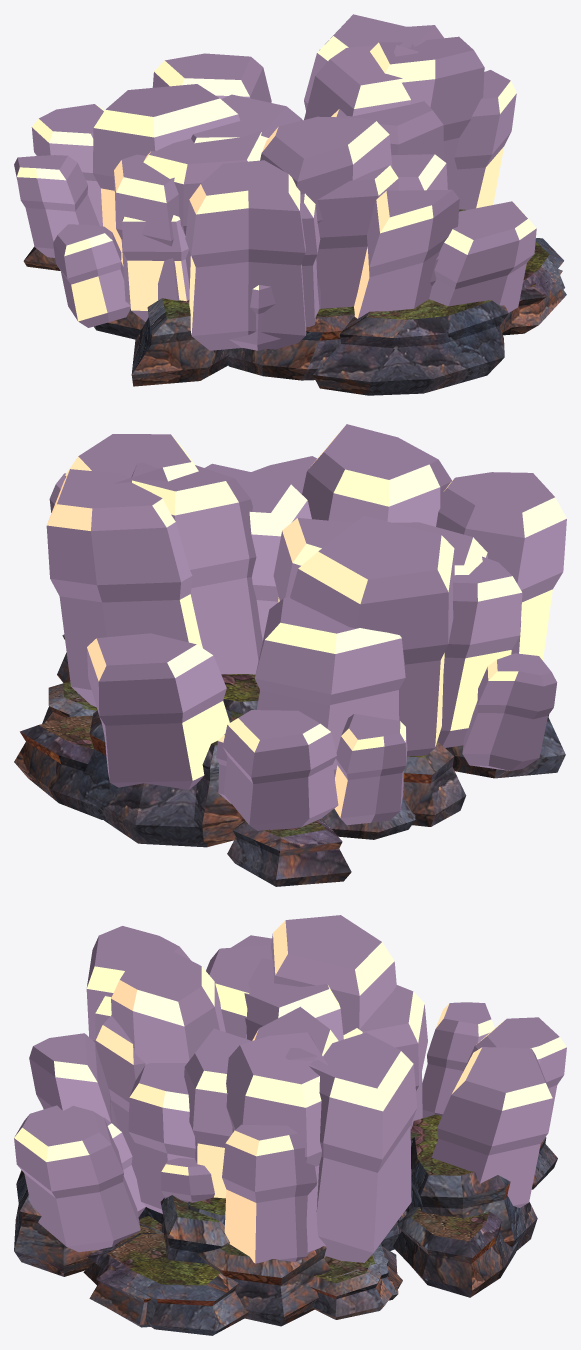
The model's file is ferrous_shale.glb.
3 renders of one model, top to bottom at view 1: azimuth 30°, elevation 25°; view 2: azimuth 150°, elevation 25°; view 3: azimuth 270°, elevation 25°, orthographic. The views are drawn at different scales.
Visible parts, largest first — view 1: ferrous_shale; view 2: ferrous_shale; view 3: ferrous_shale.
Boxes of the visible parts, x1,y1,x2,y2 form: ferrous_shale: [14, 14, 566, 395]; ferrous_shale: [14, 424, 566, 886]; ferrous_shale: [14, 915, 566, 1335].
Size of the model in its own units: 1.88 by 0.922 by 1.84.
6 materials, 3 textured.
